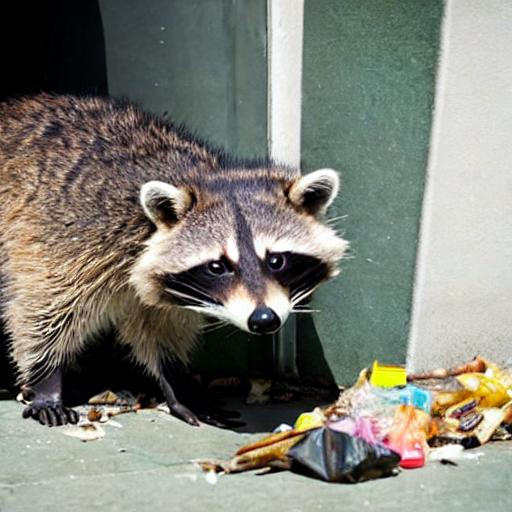raccoon: (0, 84, 357, 407)
